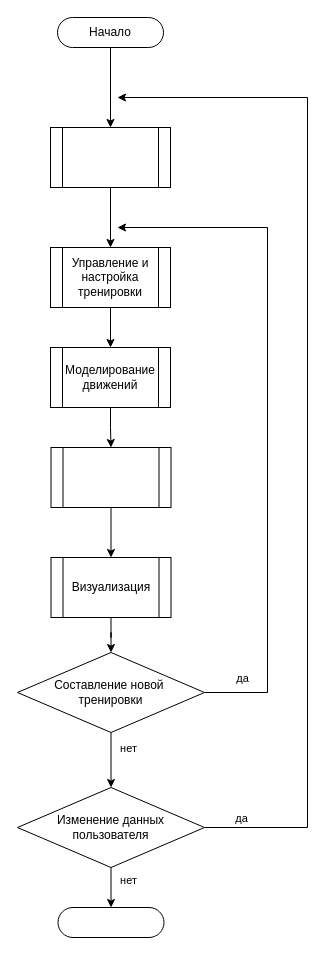
Some shapes in this 333 by 955 pixel diagram are drawn without their labels. Each missing label, with the centre of its shape:
"Ввод данных о пользователе" goes at point 110,157.
"Конец" goes at point 110,922.
"Создание тренировочных программ" goes at point 110,477.
